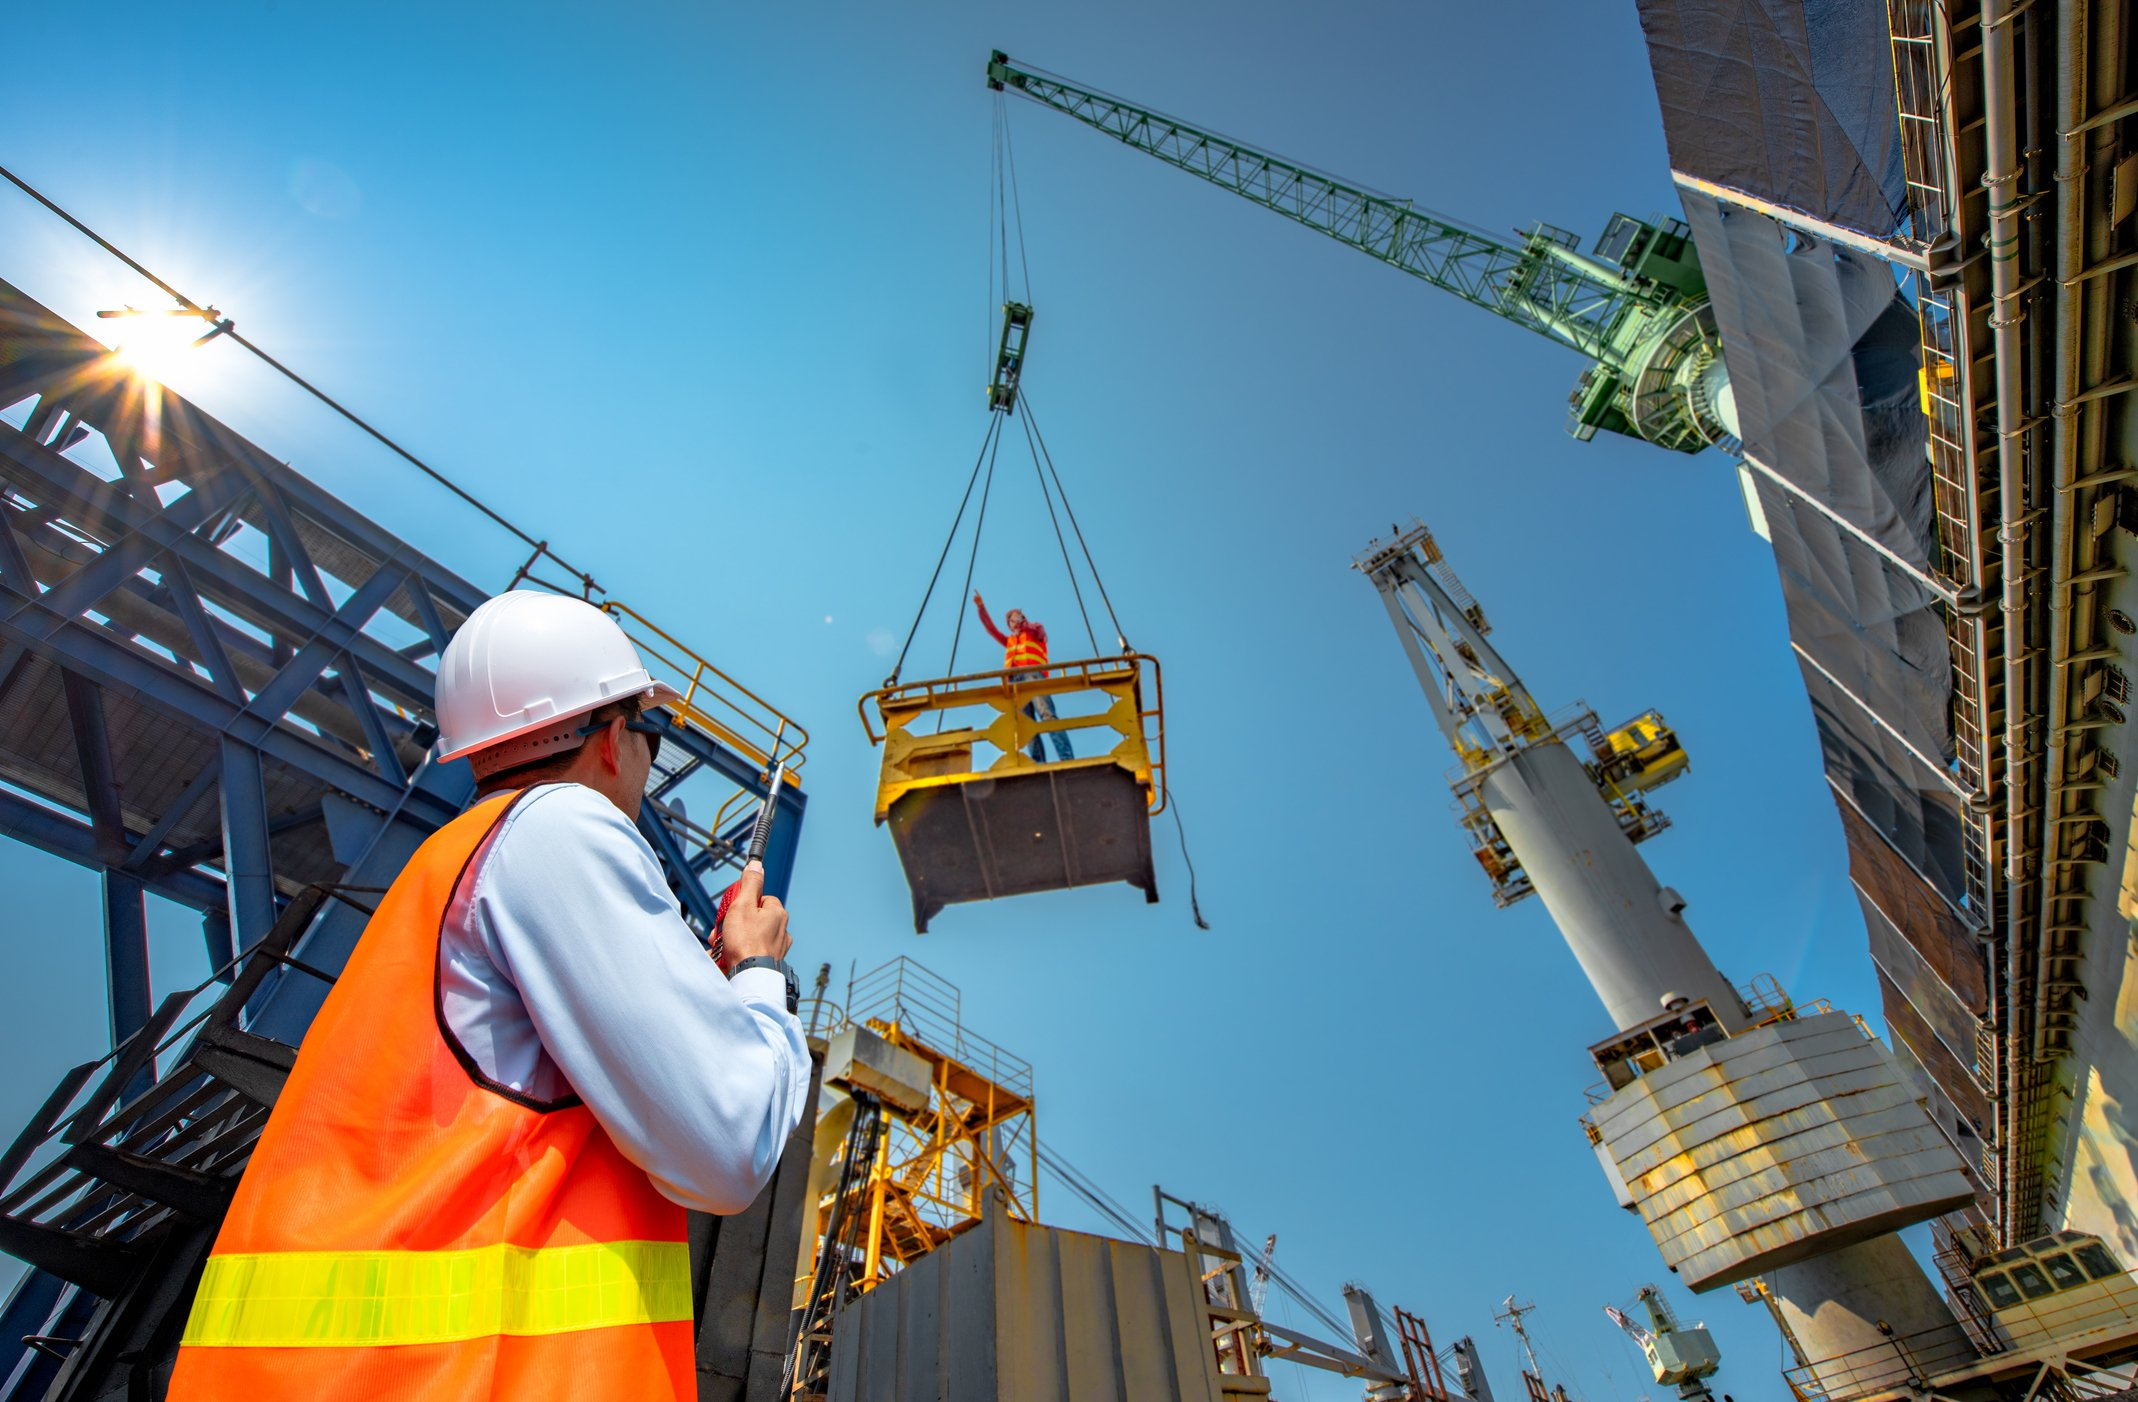hat: (389, 573, 682, 753)
jacket: (338, 804, 707, 1400)
